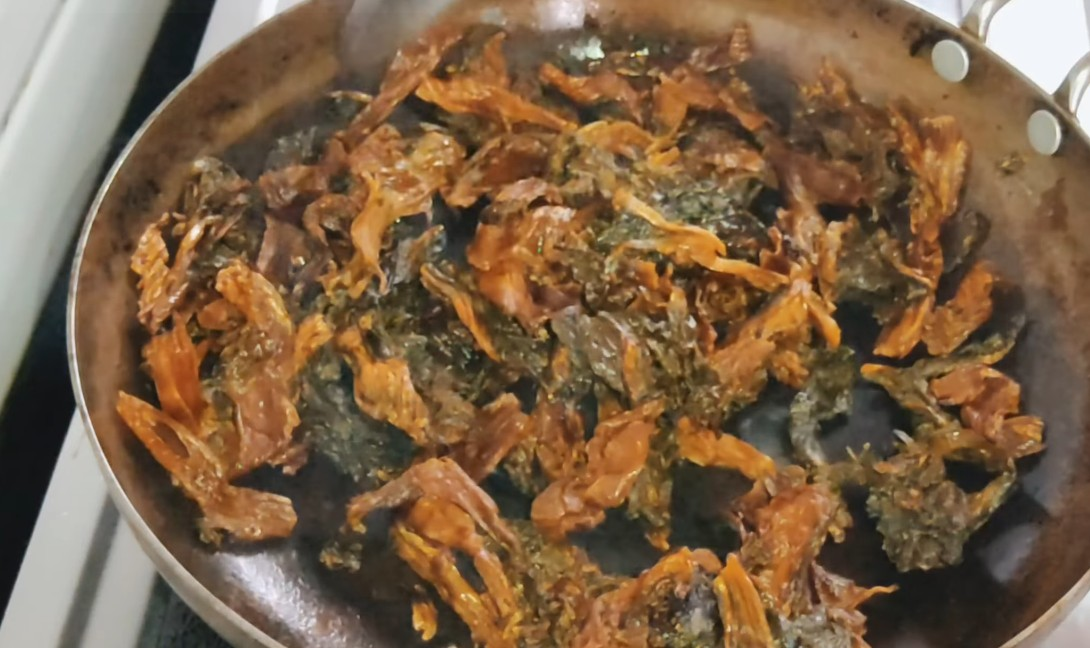gundruk: (183, 36, 1027, 627)
